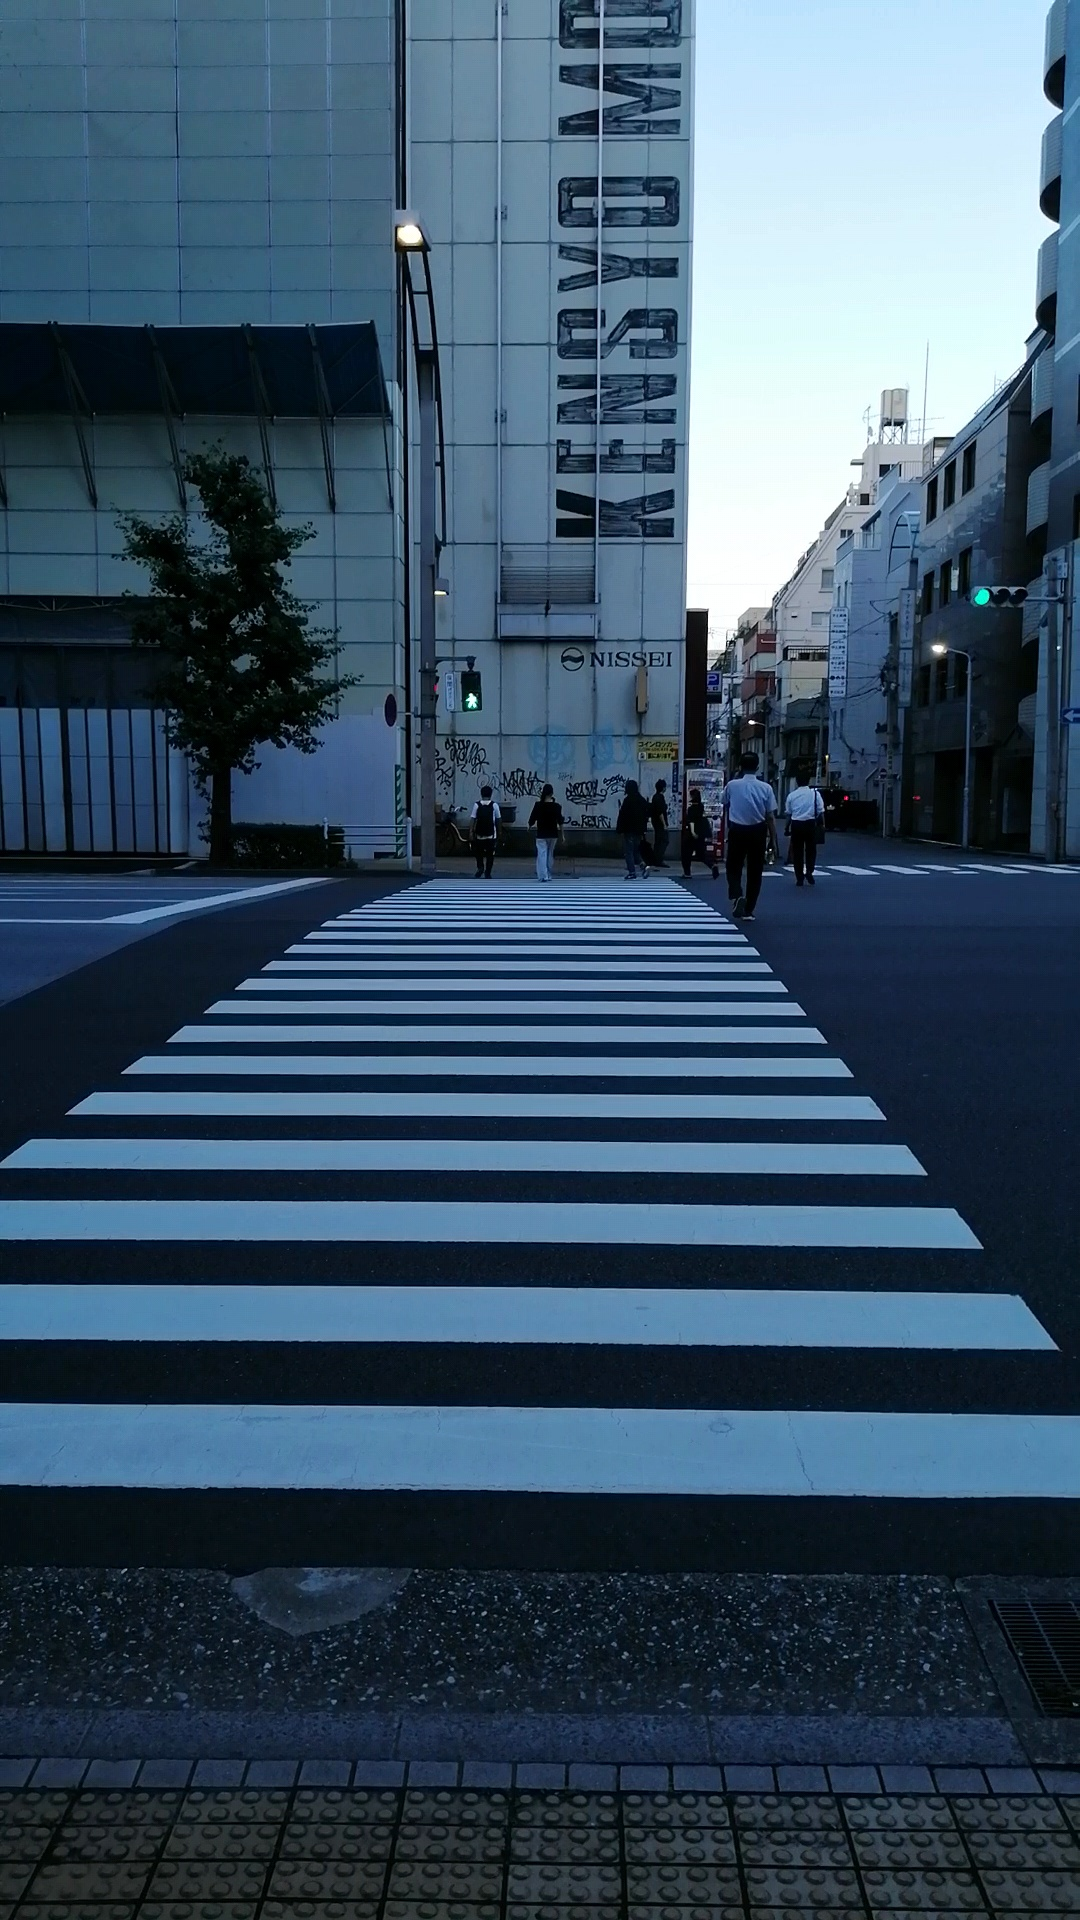green: (459, 670, 483, 713)
